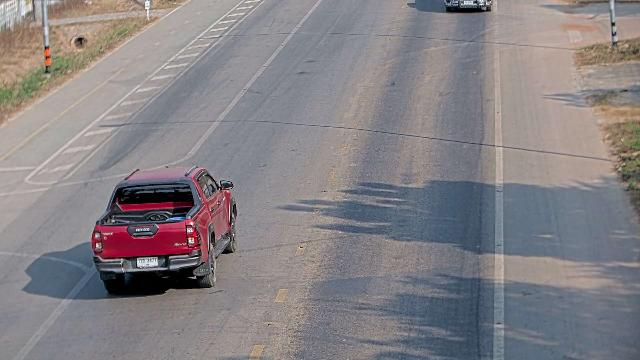pickup-truck: (90, 164, 238, 293), (444, 0, 493, 12)
